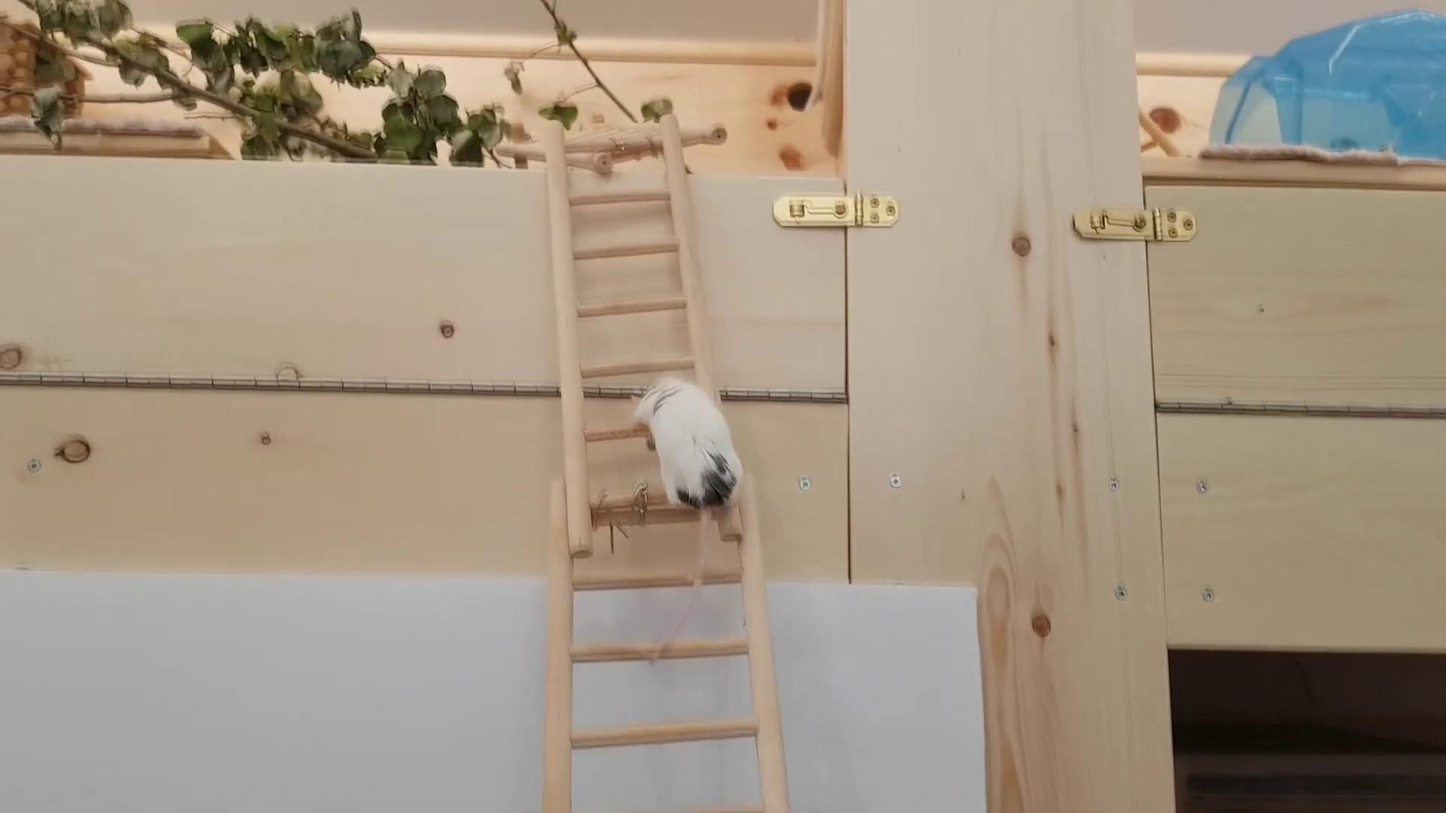rat: (632, 378, 746, 666)
